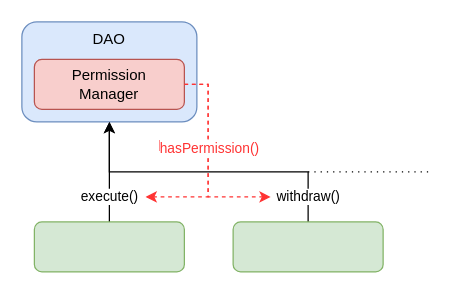
The diagram is 456 pixels wide and 294 high, and some of its shapes have lost their labels. The shapes that lost their labels are listed below. From the top down, each one's box as (x1, y1, x2, y2) in pixels, then its label:
(33, 221, 184, 272): Plugin ERC-20 Voting
(232, 221, 383, 272): Plugin Stream Provider
